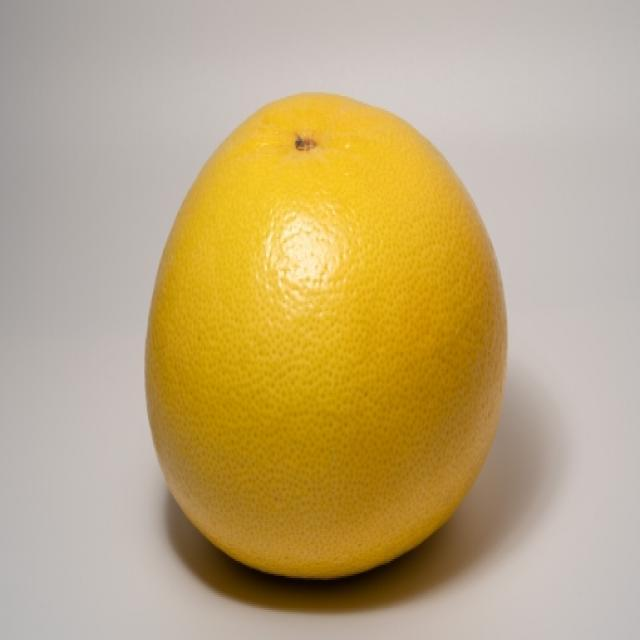Orange: (134, 92, 507, 582)
